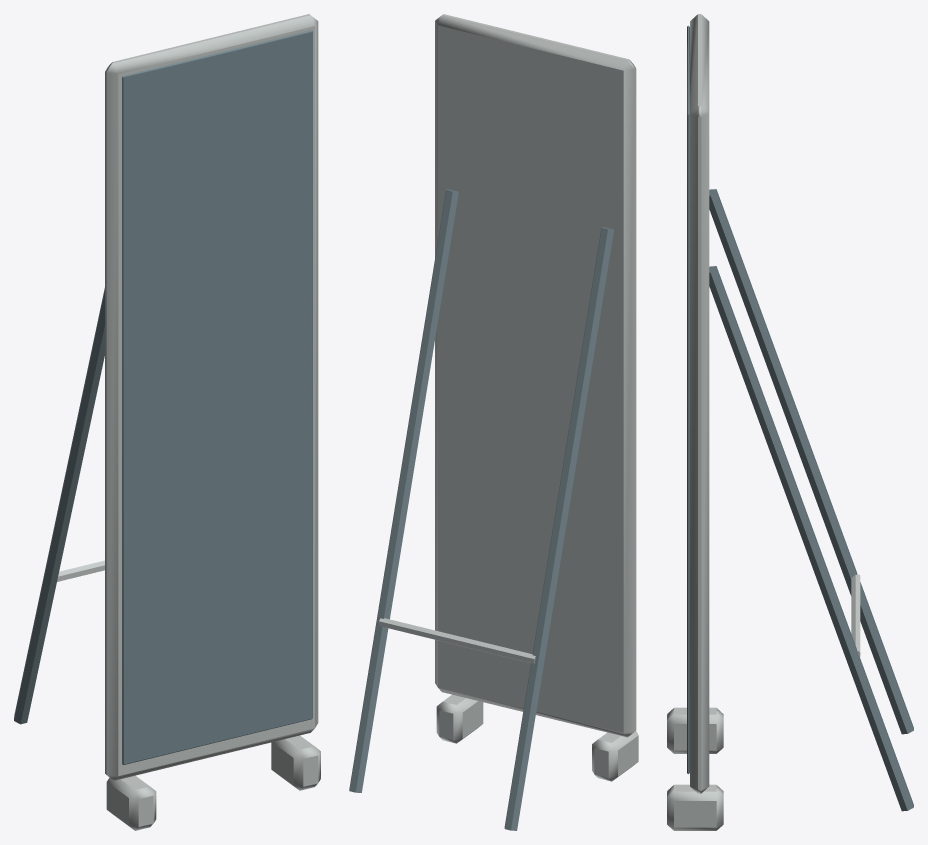
File: standing-mirror.glb
3 views of the same model, side by side, from view 1: azimuth 30°, elevation 25°; view 2: azimuth 150°, elevation 25°; view 3: azimuth 270°, elevation 25° (orthographic). The views are drawn at different scales.
Visible parts, largest first — view 1: mirror_surface, mirror_frame, rear_support, front_foot, front_foot.001; view 2: mirror_frame, rear_support, rear_support.001, front_foot, front_foot.001, brace; view 3: mirror_frame, rear_support.001, rear_support, front_foot.001, mirror_surface, front_foot, brace.
Boxes of the visible parts, box(x1,y1,x2,y2) form: mirror_surface: box(122, 30, 312, 764); mirror_frame: box(105, 14, 318, 780); rear_support: box(14, 288, 104, 724); front_foot: box(106, 775, 156, 830); front_foot.001: box(271, 735, 320, 790); mirror_frame: box(435, 14, 636, 737); rear_support: box(504, 227, 613, 830); rear_support.001: box(349, 189, 458, 792); front_foot: box(592, 731, 638, 781); front_foot.001: box(436, 694, 483, 743); brace: box(379, 618, 535, 663); mirror_frame: box(690, 14, 709, 793); rear_support.001: box(709, 266, 913, 811); rear_support: box(709, 189, 913, 734); front_foot.001: box(667, 784, 723, 830); mirror_surface: box(687, 25, 689, 774); front_foot: box(667, 707, 723, 753); brace: box(851, 573, 860, 657).
Bounding box in the file's own units: 0.54 × 1.86 × 0.569.
